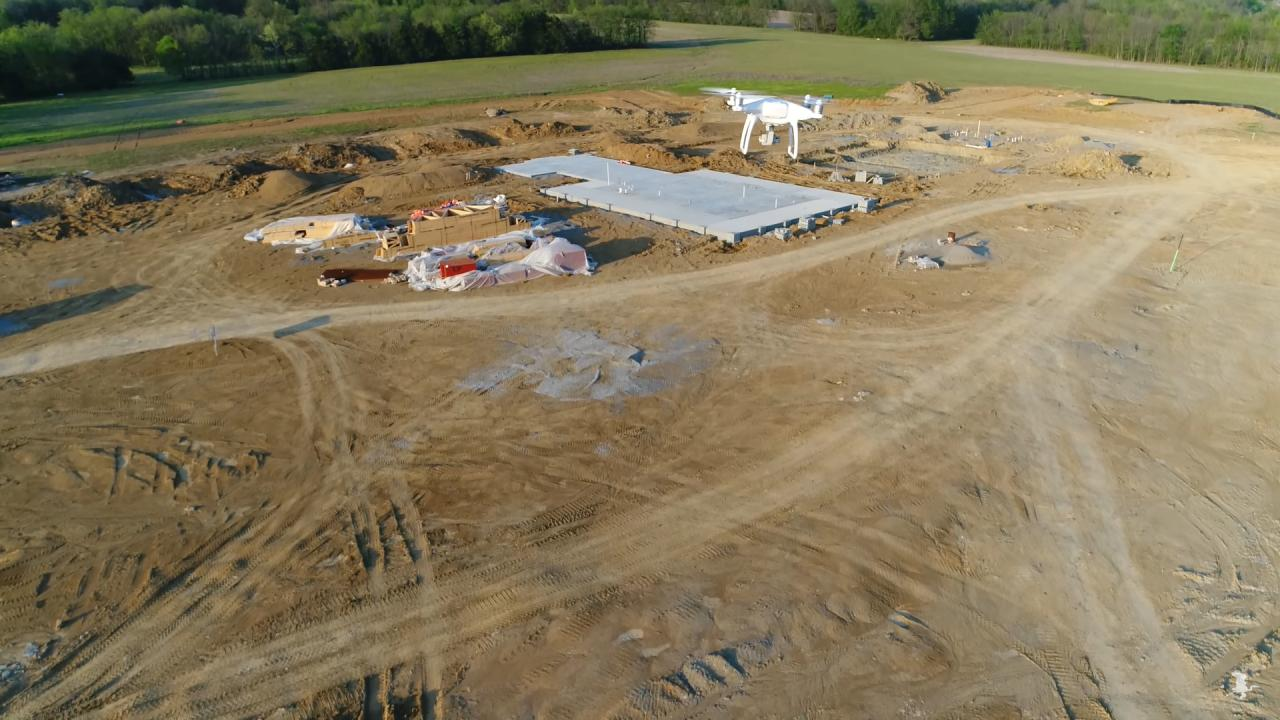Drone: (694, 77, 862, 168)
